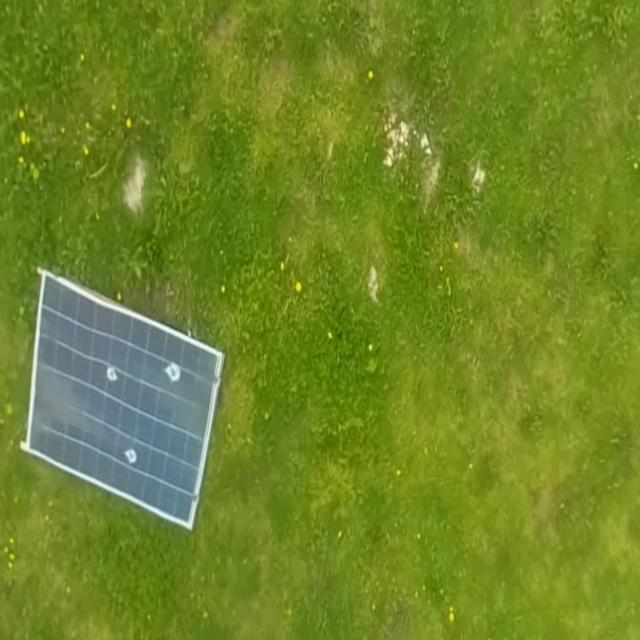Bird-drop: (162, 361, 182, 383), (105, 364, 119, 382), (125, 445, 138, 463)
